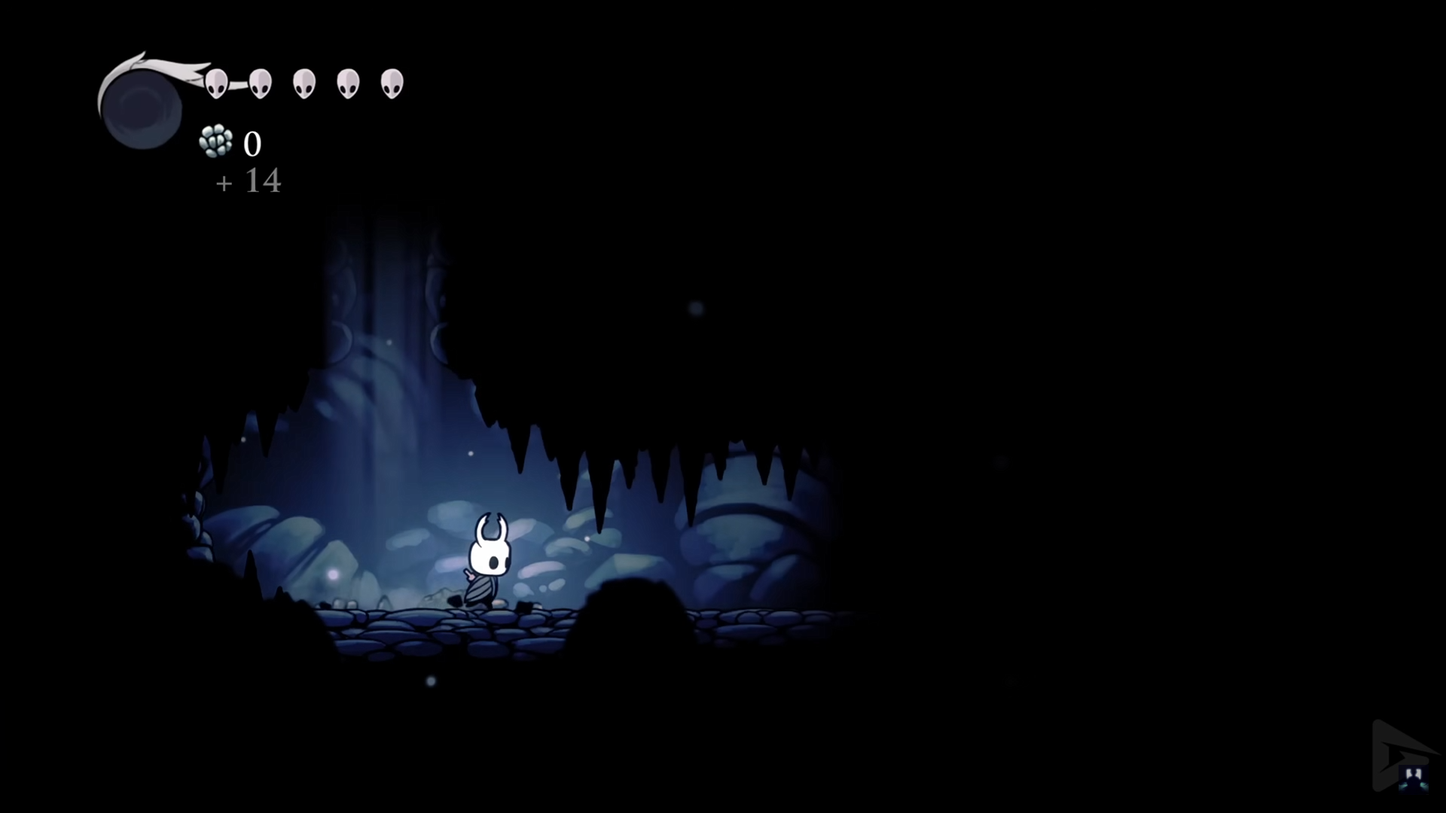HK: (453, 512, 517, 619)
